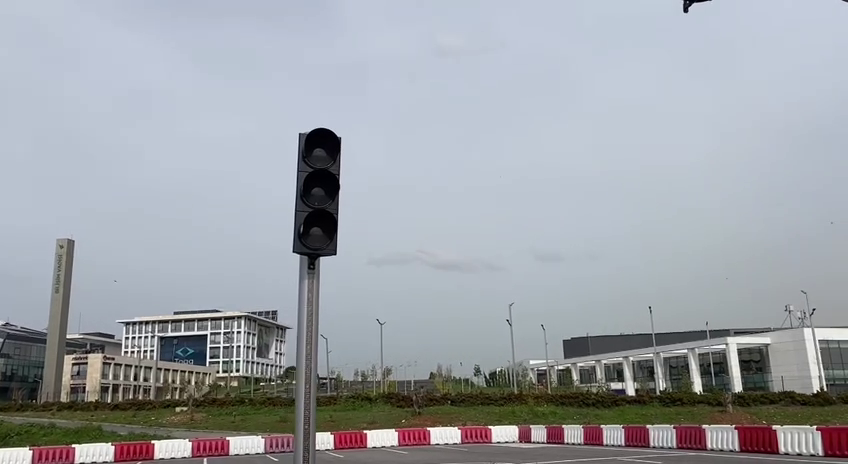trafficLight: (287, 123, 348, 266)
